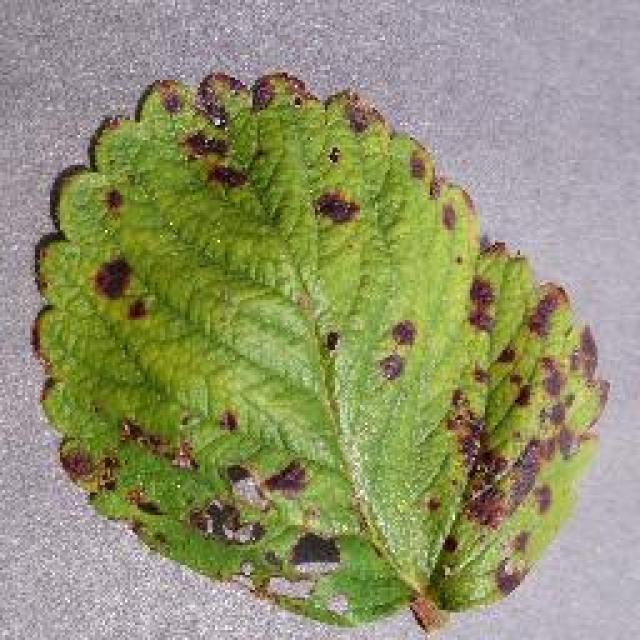Strawberry leaf scorch: (88, 172, 507, 552)
